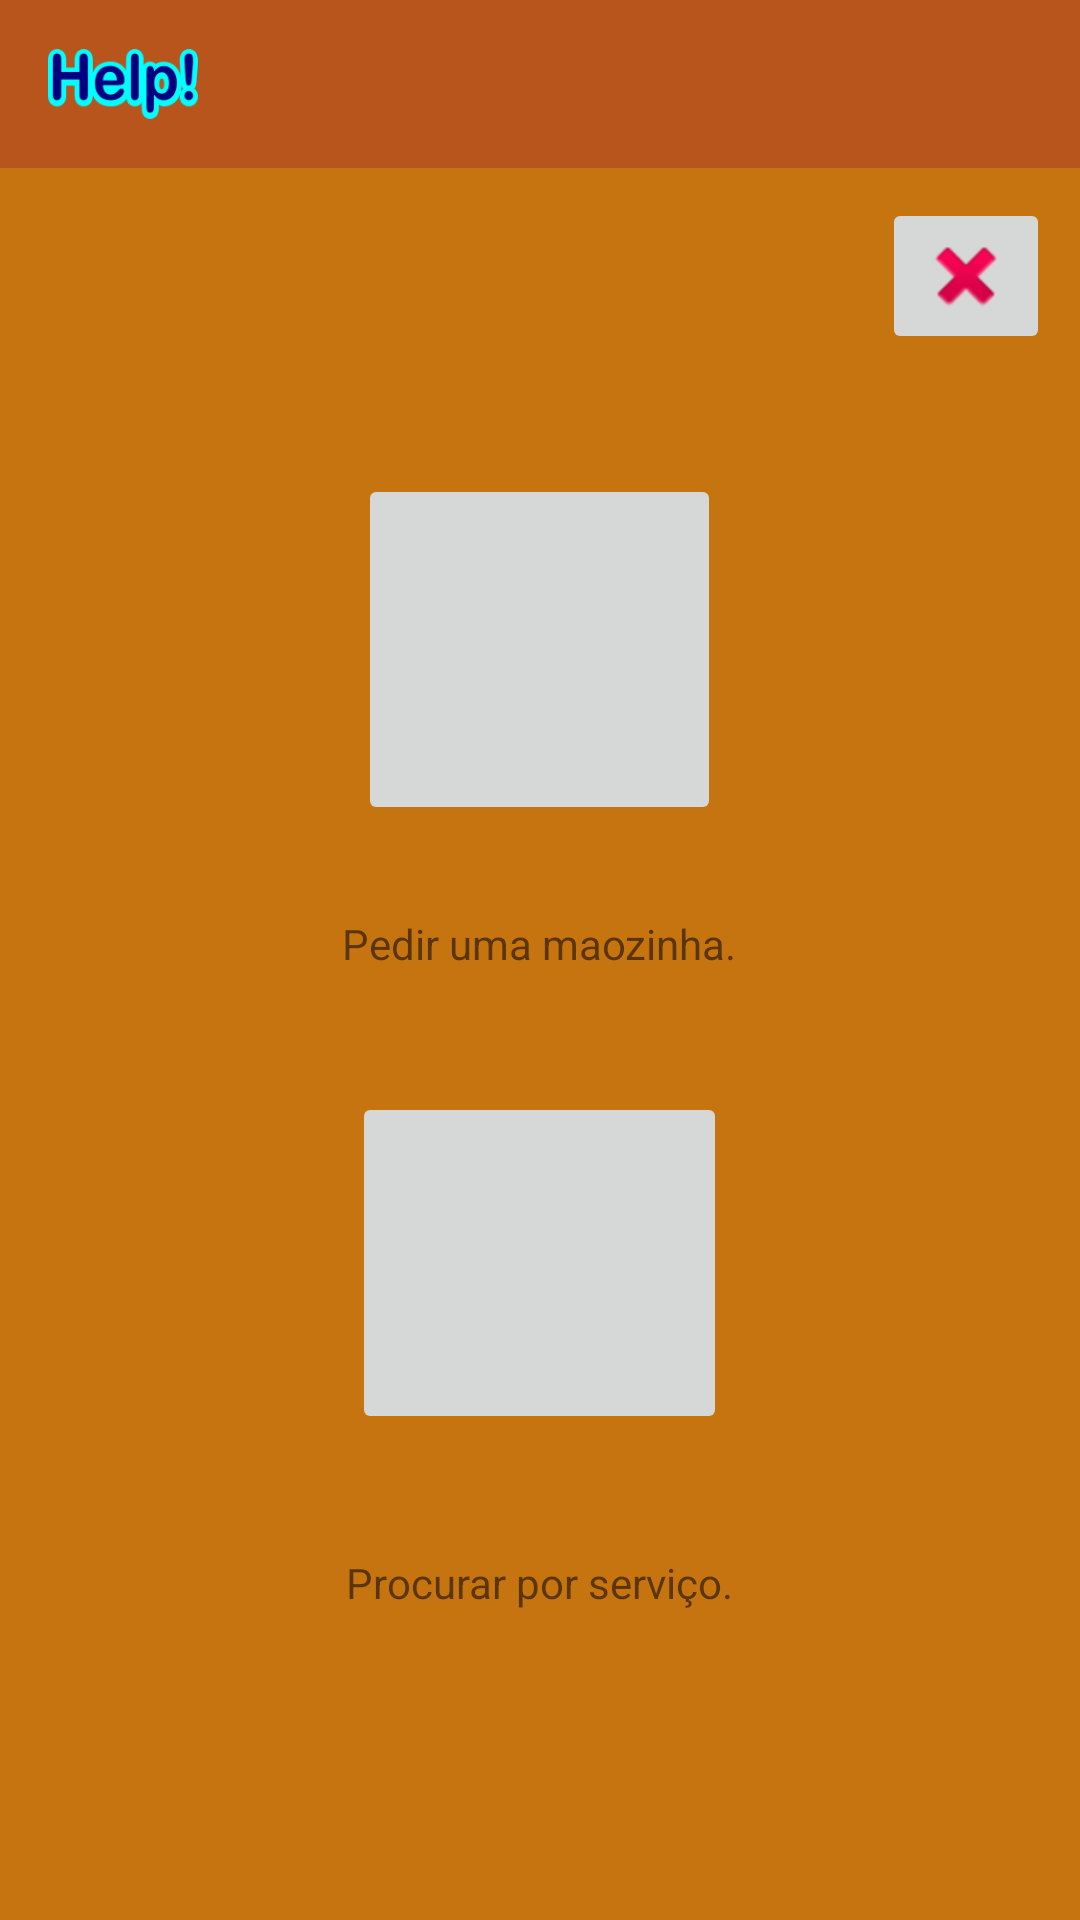

Screen size 1080w x 1920h. Icon name, then its center in pixels as [x,y]:
delete: [966,276]
